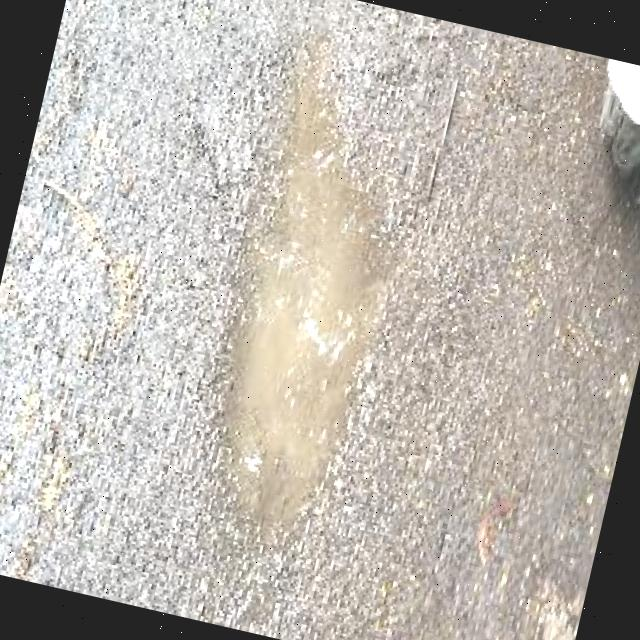waterlogging: (168, 29, 464, 552)
